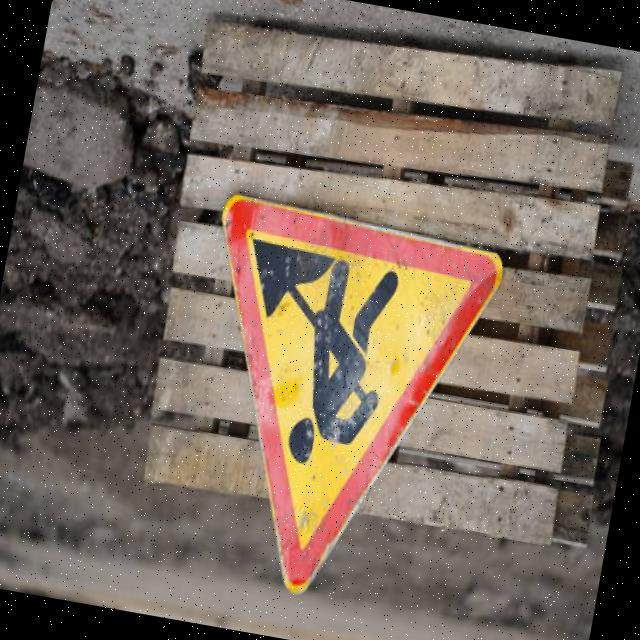road_work: (152, 185, 507, 638)
